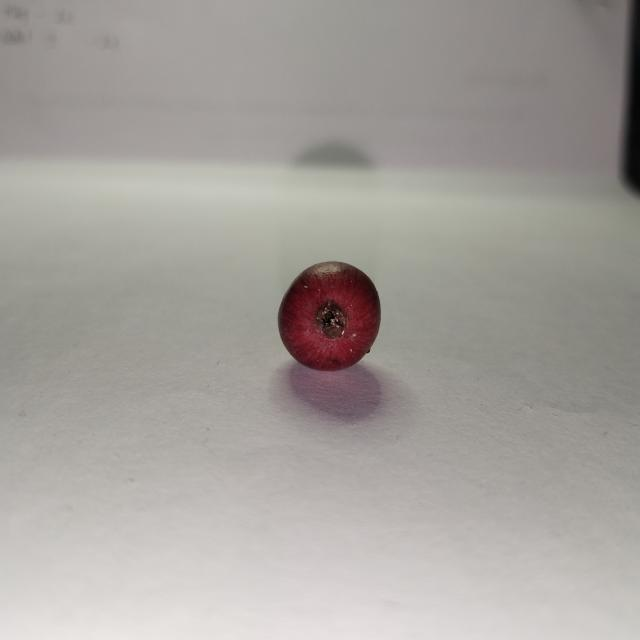Infectado: (276, 261, 382, 374)
